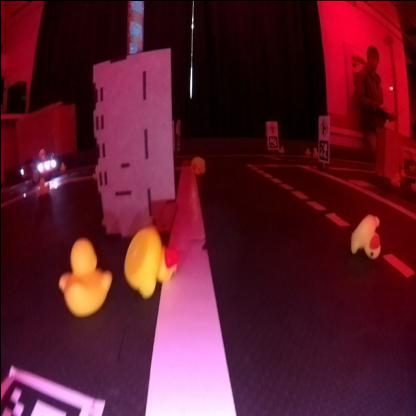Duckie: (57, 244, 107, 309), (125, 227, 173, 291), (350, 209, 380, 258), (189, 155, 204, 173), (37, 176, 48, 193), (60, 161, 64, 169)
Duckiebot: (26, 156, 57, 183)
Intersection sign: (317, 116, 327, 135), (266, 121, 276, 132)
QR code: (2, 365, 104, 413), (317, 138, 327, 158), (268, 134, 275, 146)
